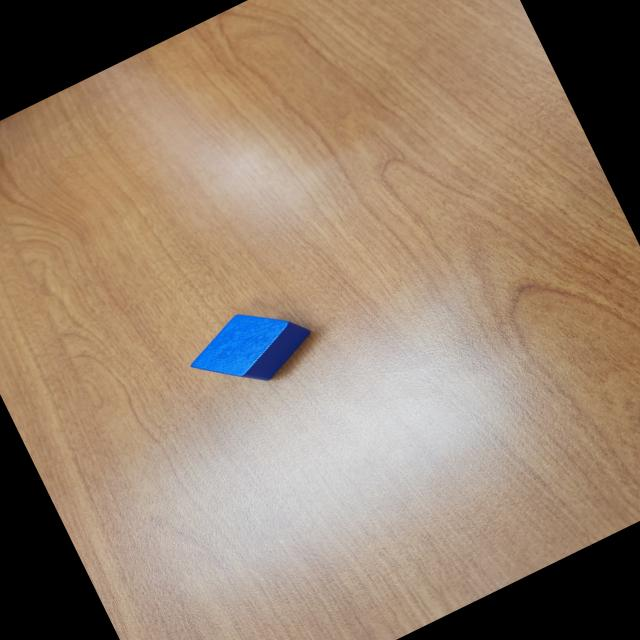blue: (178, 287, 322, 409)
